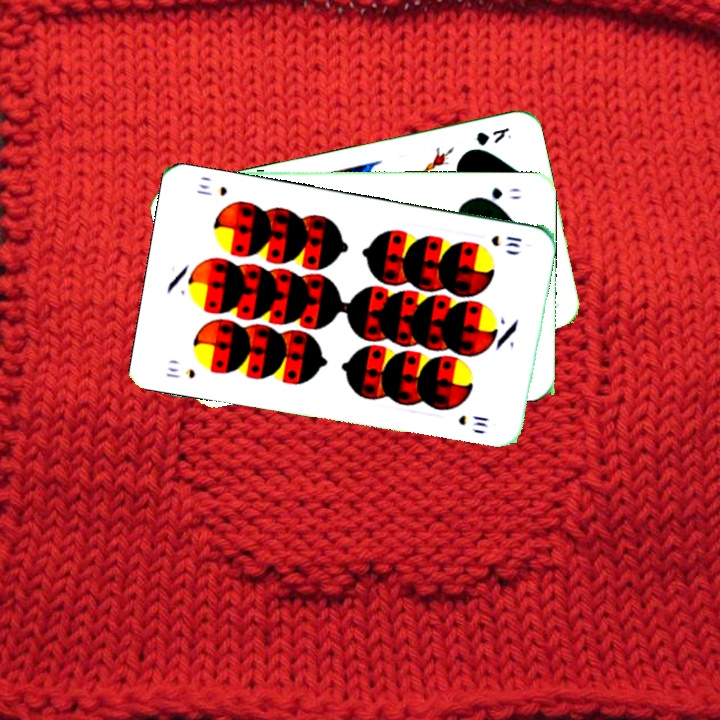GK: (472, 123, 514, 149)
GO: (471, 183, 524, 206)
S10: (487, 231, 525, 250), (162, 363, 198, 381)
